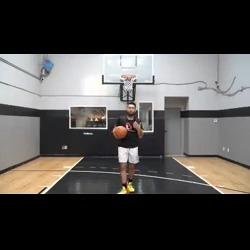BasketBall: (111, 124, 128, 140)
